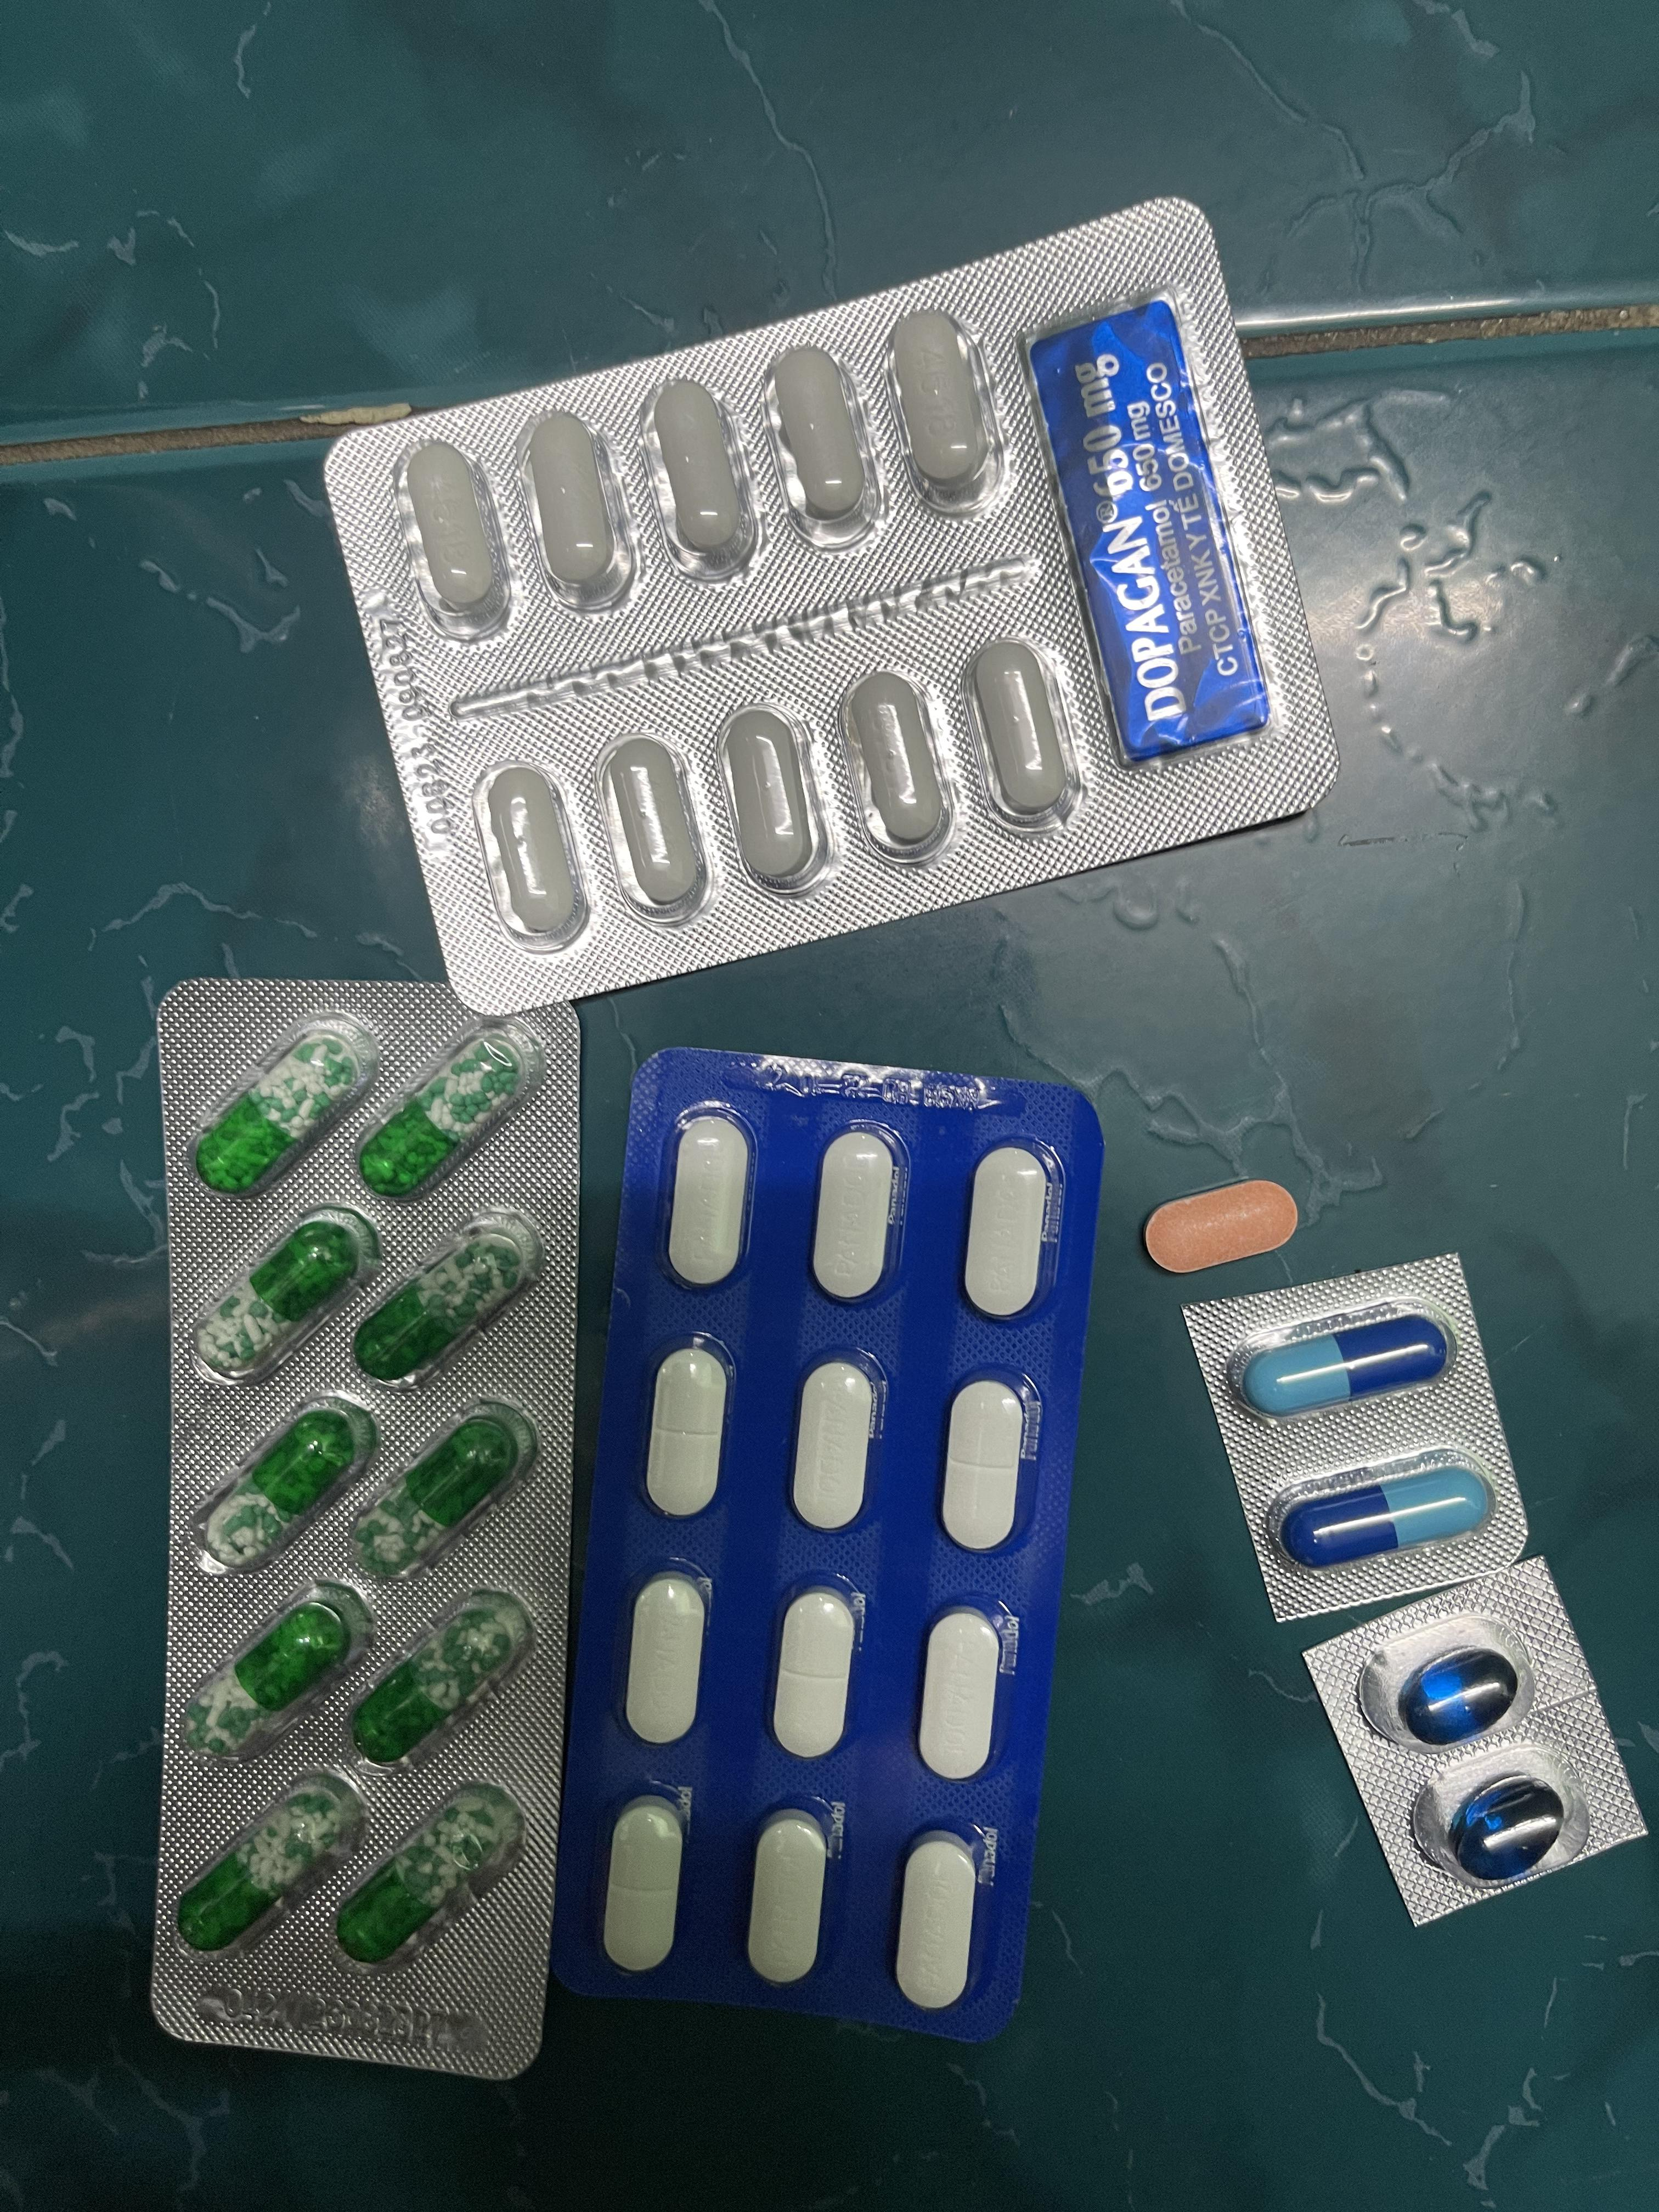Lincomyxin_500mg: (1446, 1777, 1566, 1881), (1397, 1646, 1519, 1745)
Loratadine_10mg: (1143, 1181, 1296, 1273)
Paracetamol_350mg: (962, 1146, 1053, 1323), (811, 1129, 904, 1303), (789, 1359, 879, 1536), (916, 1605, 1005, 1784), (940, 1378, 1028, 1556), (896, 1832, 982, 2013), (666, 1115, 753, 1290), (771, 1585, 857, 1761), (603, 1797, 686, 1977), (747, 1810, 831, 1989), (646, 1345, 730, 1520), (626, 1574, 709, 1748)
Paracetamol_500mg: (641, 375, 764, 586), (887, 306, 1003, 521), (517, 407, 636, 617), (765, 343, 882, 554), (395, 436, 511, 644), (591, 732, 713, 927), (837, 668, 956, 866), (713, 702, 832, 899), (472, 757, 594, 951), (963, 639, 1075, 834)
Paracetamol_650mg: (183, 1577, 377, 1761), (174, 1773, 365, 1951), (336, 1783, 523, 1963), (351, 1587, 535, 1768), (354, 1398, 540, 1578), (193, 1204, 382, 1379), (354, 1215, 540, 1386), (364, 1018, 543, 1194), (195, 1022, 379, 1192), (195, 1401, 375, 1573)
pill: (1289, 1469, 1486, 1570), (1249, 1318, 1444, 1414)
